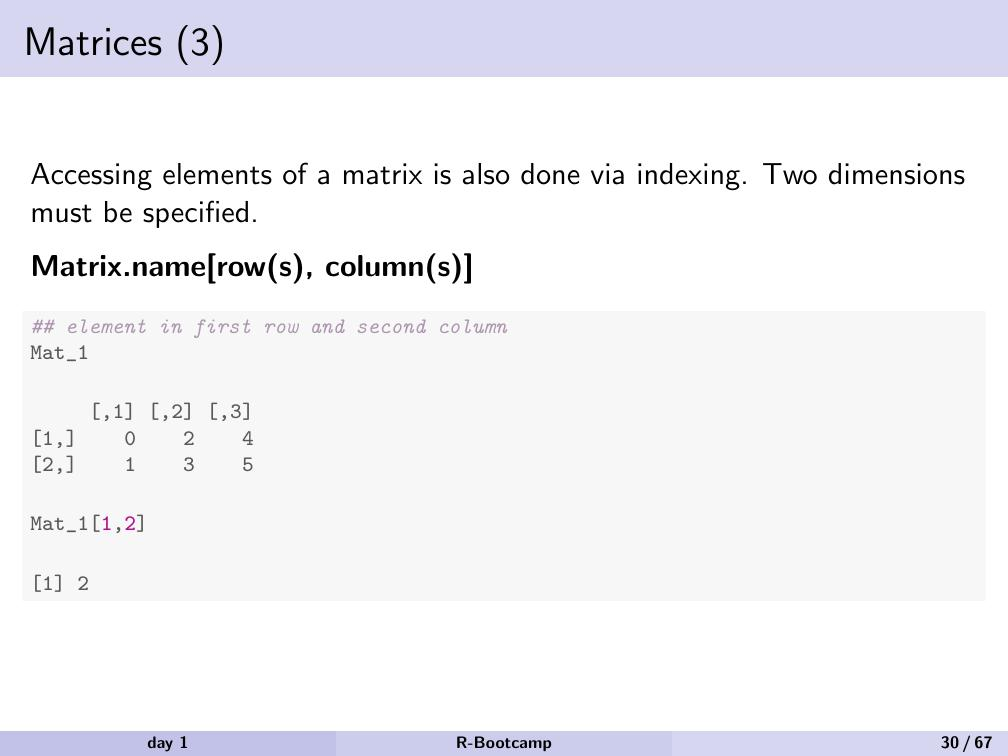Title: (12, 11, 231, 70)
